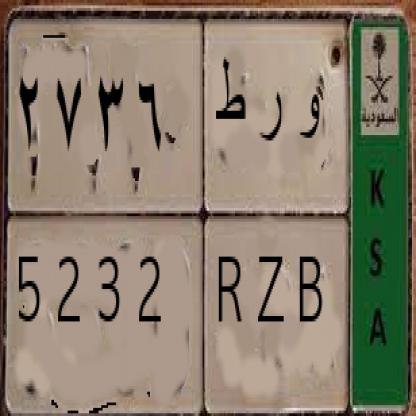english: (10, 210, 356, 406)
